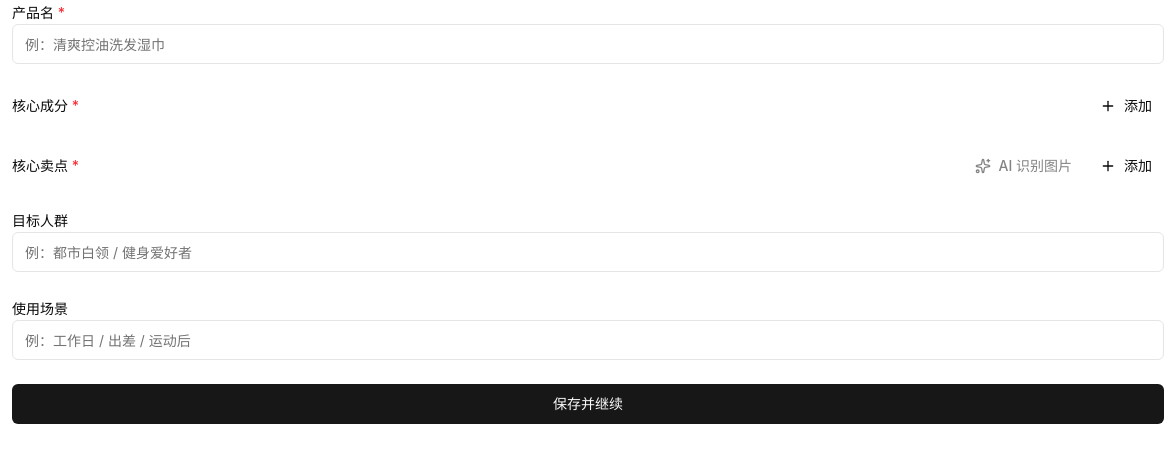
Scenario: ProductContextForm › shows validation errors when empty
Click the button "保存并继续" at (588, 404), box [12,384,1164,424]
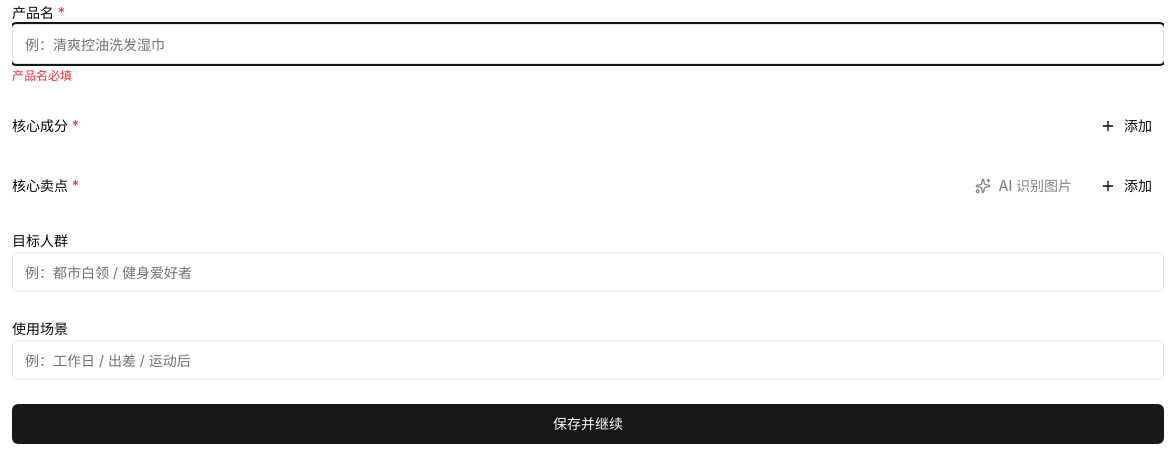
Expected: the text "产品名必填" is shown, [12,68,72,83]
